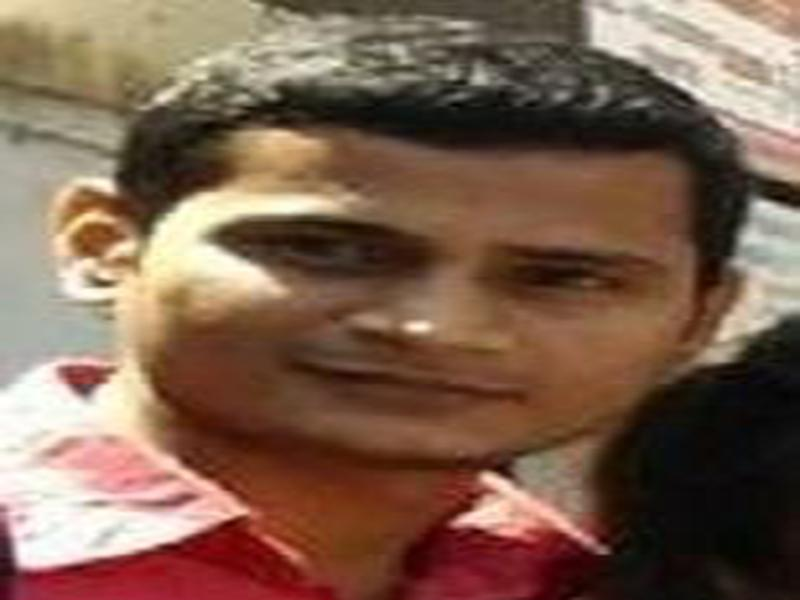without_mask: (140, 123, 680, 467)
